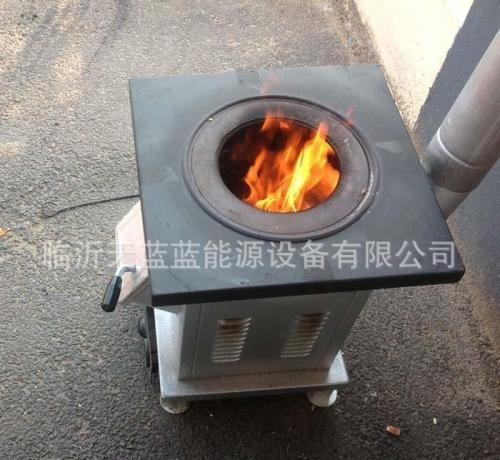fire: (235, 110, 343, 210)
